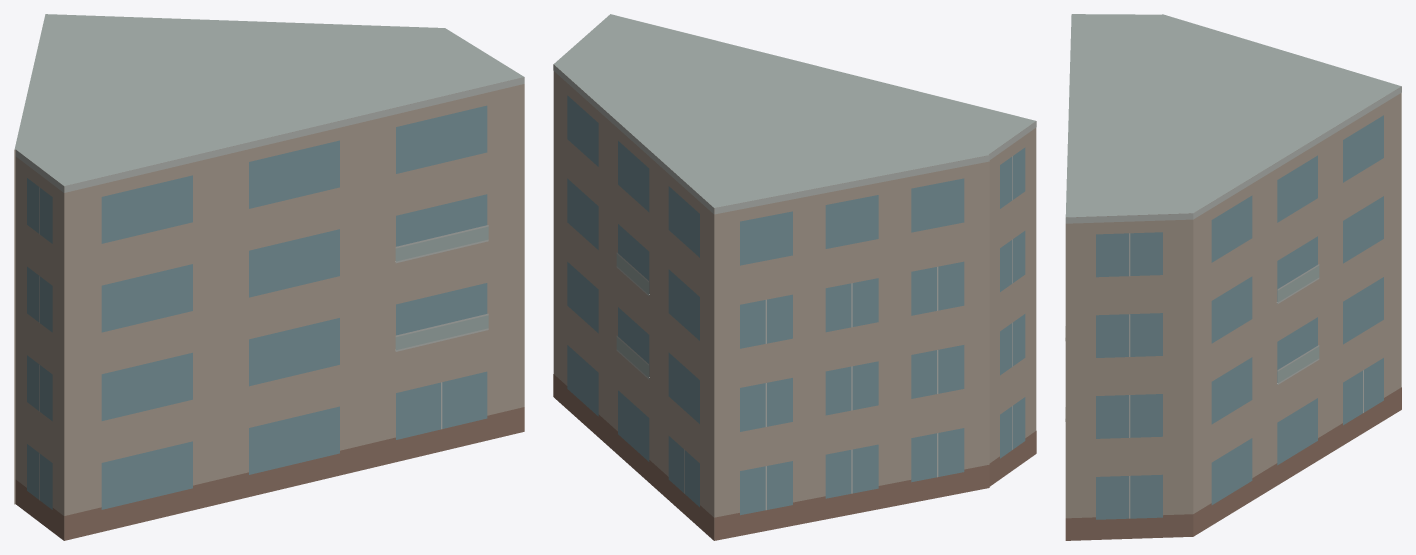
File: survey-upis-32859893.glb
3 views of the same model, side by side, from view 1: azimuth 30°, elevation 25°; view 2: azimuth 150°, elevation 25°; view 3: azimuth 270°, elevation 25° (orthographic). The views are drawn at different scales.
Visible parts, largest first — view 1: survey-upis-32859893.tmp; view 2: survey-upis-32859893.tmp; view 3: survey-upis-32859893.tmp.
Part boxes in pixels (x1,y1,x2,y2): survey-upis-32859893.tmp: (14, 14, 524, 540); survey-upis-32859893.tmp: (553, 14, 1036, 540); survey-upis-32859893.tmp: (1065, 14, 1401, 540).
Size of the model in its own units: 17.01 by 12.6 by 11.89.
